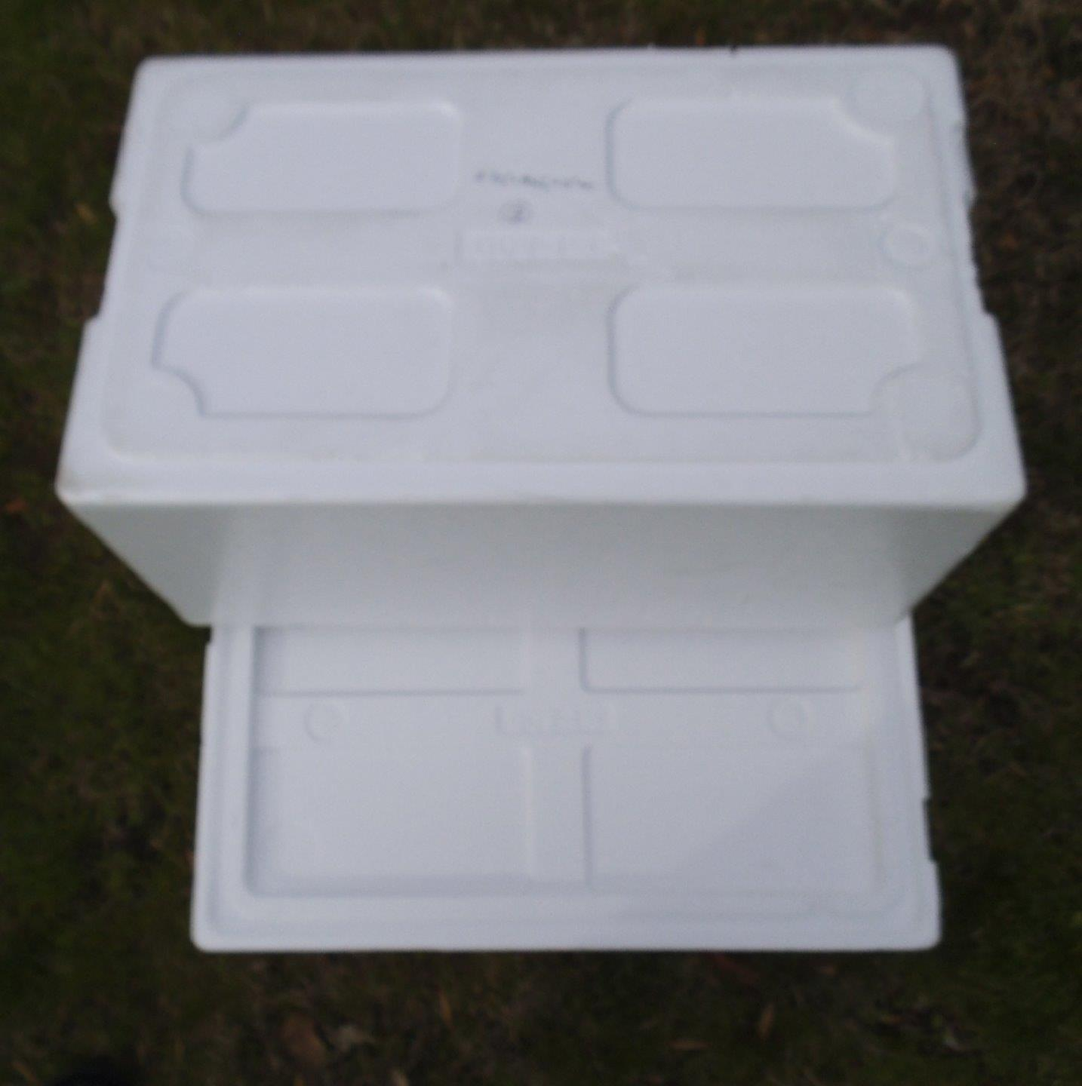泡沫箱: (59, 48, 1023, 950)
